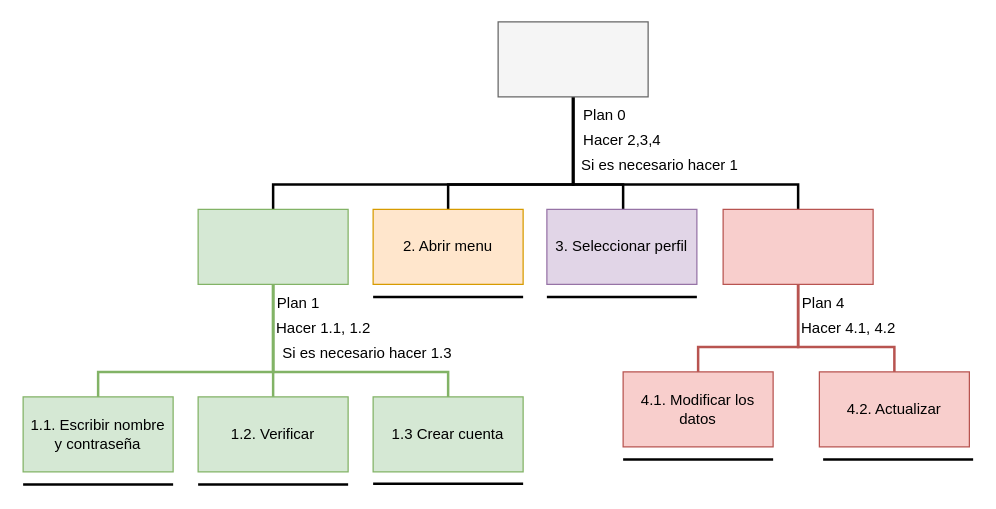
Image size: 996x509. Some labels were removed from this diagram. The shapes that lost their labels are listed below. From the top down, each one's centre as x and y in pixels, then its label:
the point at 572,59: 0. Editar datos del perfil de usuario
the point at 272,246: 1. Loguearse
the point at 797,246: 4. Editar los datos
